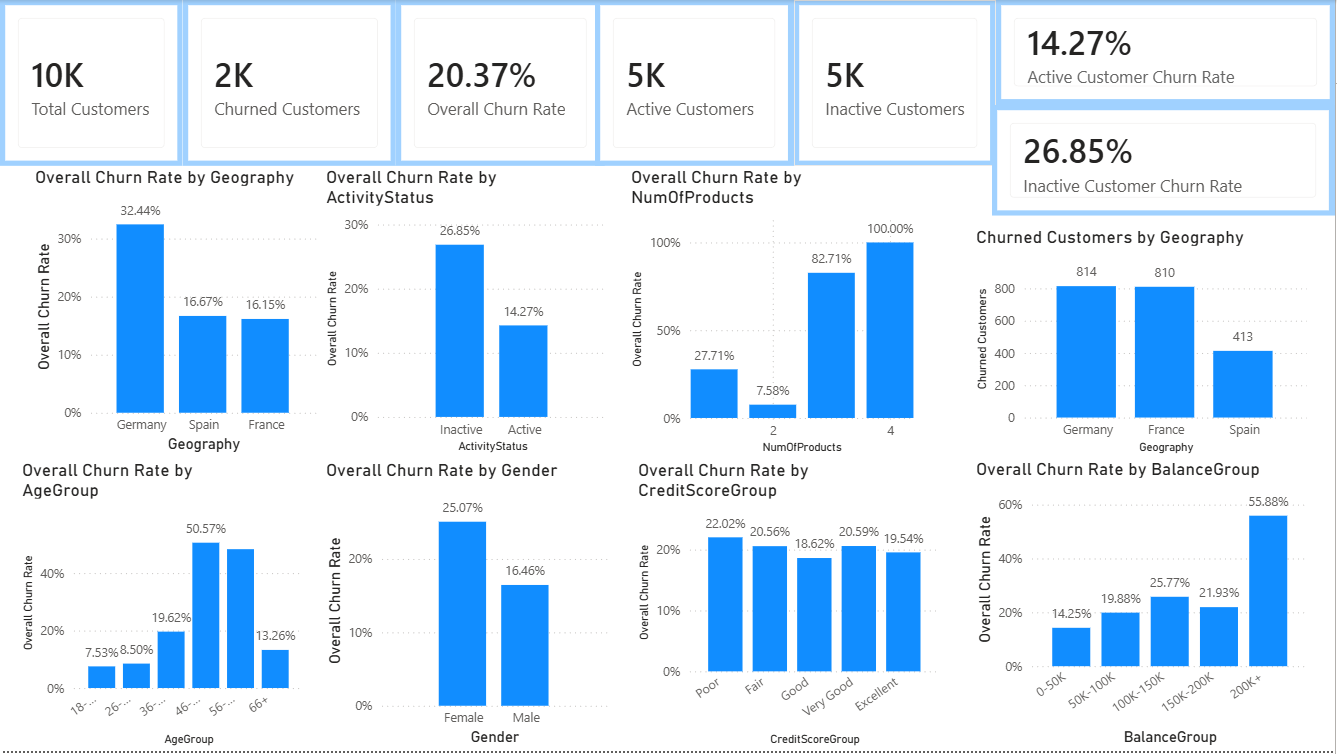

The page's visual inventory and layout, read from the dashboard file:
{"tool":"powerbi","page":{"name":"Page 1","canvas":[1280,720],"ordinal":0},"visuals":[{"type":"clusteredColumnChart","fields":{"Category":["Churn_Modelling.Geography"],"Y":["Churn_Modelling.Overall Churn Rate"]},"box":[28.5,159.6,279.6,279.6],"z":0},{"type":"clusteredColumnChart","fields":{"Category":["Churn_Modelling.AgeGroup"],"Y":["Churn_Modelling.Overall Churn Rate"]},"box":[16.3,440.2,279.6,279.6],"z":1000},{"type":"clusteredColumnChart","fields":{"Category":["Churn_Modelling.ActivityStatus"],"Y":["Churn_Modelling.Overall Churn Rate"]},"box":[308.1,159.6,279.6,279.6],"z":2000},{"type":"clusteredColumnChart","fields":{"Category":["Churn_Modelling.Gender"],"Y":["Churn_Modelling.Overall Churn Rate"]},"box":[308.1,440.2,279.6,279.6],"z":3000},{"type":"clusteredColumnChart","fields":{"Category":["Churn_Modelling.NumOfProducts"],"Y":["Churn_Modelling.Overall Churn Rate"]},"box":[599.8,159.6,280.6,280.6],"z":4000},{"type":"clusteredColumnChart","fields":{"Category":["Churn_Modelling.CreditScoreGroup"],"Y":["Churn_Modelling.Overall Churn Rate"]},"box":[607,440.2,298.9,279.6],"z":5000},{"type":"clusteredColumnChart","fields":{"Category":["Churn_Modelling.BalanceGroup"],"Y":["Churn_Modelling.Overall Churn Rate"]},"box":[931.3,439.2,328.4,280.6],"z":6000},{"type":"clusteredColumnChart","fields":{"Category":["Churn_Modelling.Geography"],"Y":["Churn_Modelling.Churned Customers"]},"box":[931.3,216.6,327.4,222.7],"z":7000},{"type":"cardVisual","fields":{"Data":["Churn_Modelling.Total Customers"]},"box":[0,0,175.5,159.2],"z":8000},{"type":"cardVisual","fields":{"Data":["Churn_Modelling.Churned Customers"]},"box":[175.5,0,204.2,159.2],"z":9000},{"type":"cardVisual","fields":{"Data":["Churn_Modelling.Overall Churn Rate"]},"box":[379.7,0,200.4,159.2],"z":10000},{"type":"cardVisual","fields":{"Data":["Churn_Modelling.Active Customers"]},"box":[570.5,0,190.8,159.2],"z":11000},{"type":"cardVisual","fields":{"Data":["Churn_Modelling.Inactive Customers"]},"box":[761.3,0,193.7,159.2],"z":12000},{"type":"cardVisual","fields":{"Data":["Churn_Modelling.Active Customer Churn Rate"]},"box":[955,0,325,100.7],"z":13000},{"type":"cardVisual","fields":{"Data":["Churn_Modelling.Inactive Customer Churn Rate"]},"box":[951.1,100.7,328.9,106.4],"z":14000}]}

Visuals, with their boxes in screenshot pixels (x1, y1, x2, y2), scaled from the page's 1280x720 canvas onto the 1337x754 screenshot:
clusteredColumnChart - Churn_Modelling.Geography x Churn_Modelling.Overall Churn Rate: 30:167:322:460
clusteredColumnChart - Churn_Modelling.AgeGroup x Churn_Modelling.Overall Churn Rate: 17:461:309:753
clusteredColumnChart - Churn_Modelling.ActivityStatus x Churn_Modelling.Overall Churn Rate: 322:167:614:460
clusteredColumnChart - Churn_Modelling.Gender x Churn_Modelling.Overall Churn Rate: 322:461:614:753
clusteredColumnChart - Churn_Modelling.NumOfProducts x Churn_Modelling.Overall Churn Rate: 627:167:920:461
clusteredColumnChart - Churn_Modelling.CreditScoreGroup x Churn_Modelling.Overall Churn Rate: 634:461:946:753
clusteredColumnChart - Churn_Modelling.BalanceGroup x Churn_Modelling.Overall Churn Rate: 973:460:1316:753
clusteredColumnChart - Churn_Modelling.Geography x Churn_Modelling.Churned Customers: 973:227:1315:460
cardVisual - Churn_Modelling.Total Customers: 0:0:183:167
cardVisual - Churn_Modelling.Churned Customers: 183:0:397:167
cardVisual - Churn_Modelling.Overall Churn Rate: 397:0:606:167
cardVisual - Churn_Modelling.Active Customers: 596:0:795:167
cardVisual - Churn_Modelling.Inactive Customers: 795:0:998:167
cardVisual - Churn_Modelling.Active Customer Churn Rate: 998:0:1336:105
cardVisual - Churn_Modelling.Inactive Customer Churn Rate: 993:105:1336:217
